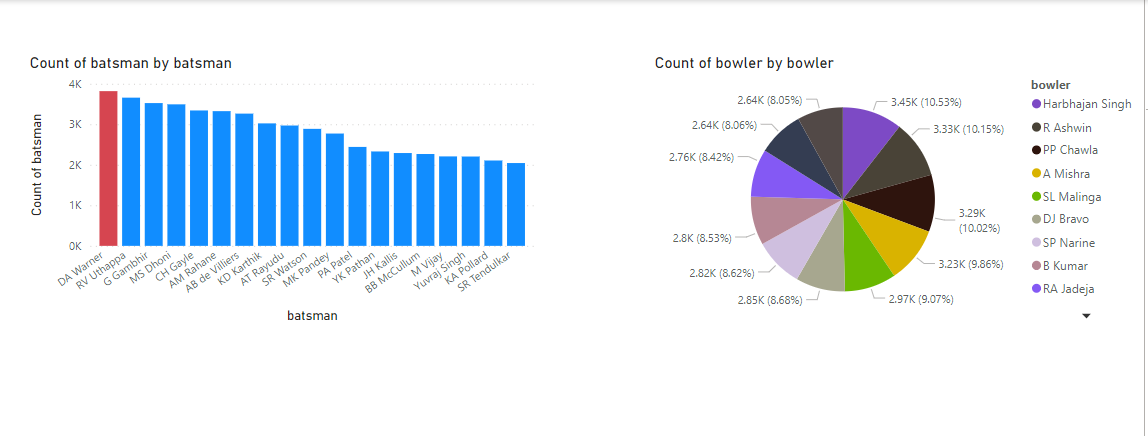

The page's visual inventory and layout, read from the dashboard file:
{"tool":"powerbi","page":{"name":"Page 1","canvas":[1280,720],"ordinal":0},"visuals":[{"type":"columnChart","fields":{"Category":["IPL Ball-by-Ball 2008-2020.batsman"],"Y":["IPL Ball-by-Ball 2008-2020.batsman"]},"box":[50.8,59.1,564.5,300.8],"z":0},{"type":"pieChart","fields":{"Category":["IPL Ball-by-Ball 2008-2020.bowler"],"Y":["IPL Ball-by-Ball 2008-2020.bowler"]},"box":[736.8,59.1,543.2,300.8],"z":1}]}

Visuals, with their boxes on the page's 1280x720 design canvas (x1, y1, x2, y2). These are canvas units, not pixel positions in the 1148x436 screenshot, which may show the page scaled, cropped or inside an application window:
columnChart - IPL Ball-by-Ball 2008-2020.batsman x IPL Ball-by-Ball 2008-2020.batsman: select_region(51, 59, 615, 360)
pieChart - IPL Ball-by-Ball 2008-2020.bowler x IPL Ball-by-Ball 2008-2020.bowler: select_region(737, 59, 1280, 360)
